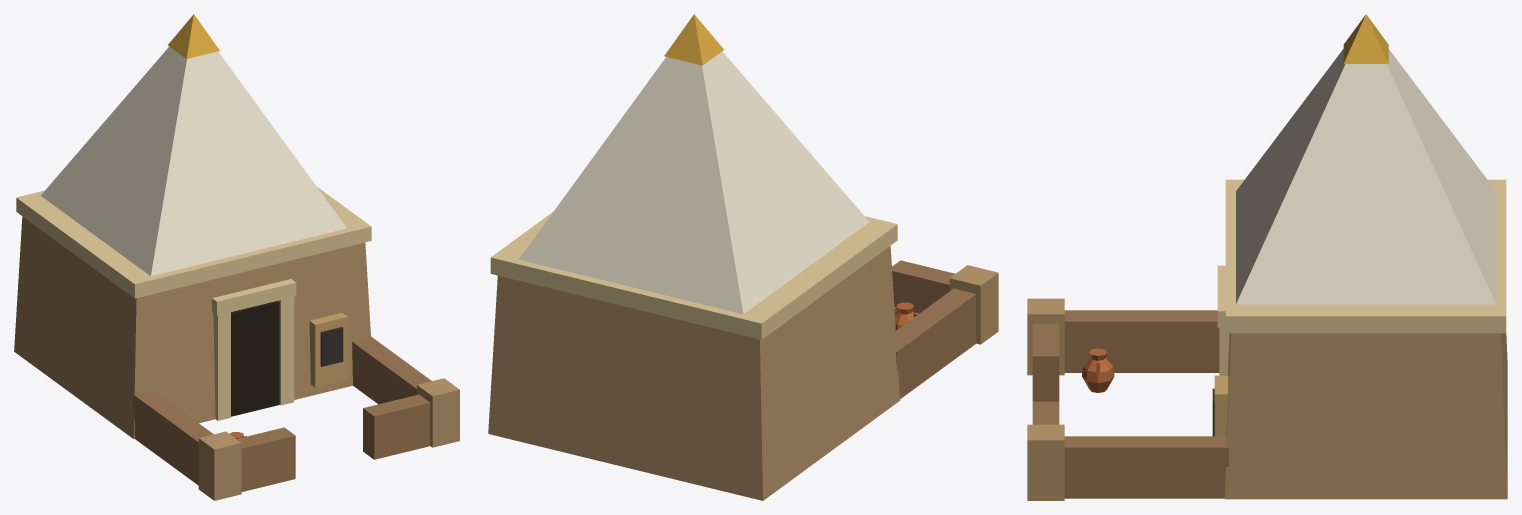
File: desert_tomb_pyr.glb
The picture shows the model from 3 angles, left to right: view 1: azimuth 30°, elevation 25°; view 2: azimuth 150°, elevation 25°; view 3: azimuth 270°, elevation 25°; orthographic projection. The views are drawn at different scales.
Visible parts, largest first — view 1: desert_tomb_pyr; view 2: desert_tomb_pyr; view 3: desert_tomb_pyr.
Boxes of the visible parts, x1,y1,x2,y2 form: desert_tomb_pyr: [14, 14, 459, 500]; desert_tomb_pyr: [488, 14, 998, 500]; desert_tomb_pyr: [1027, 14, 1507, 500].
Bounding box in the file's own units: 4.5 × 6.17 × 6.45.
